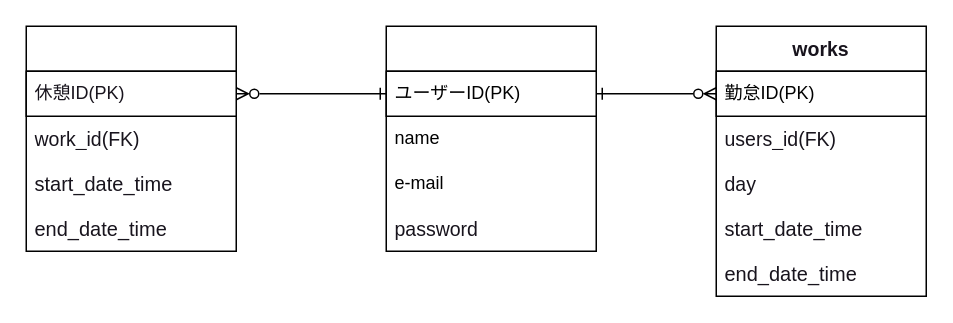
Image size: 953x323. Some labels were removed from this diagram. The box of each missing label's shape, as (x1, y1, x2, y2) in pixels:
intermissions: (25, 25, 236, 251)
users: (385, 25, 596, 251)
